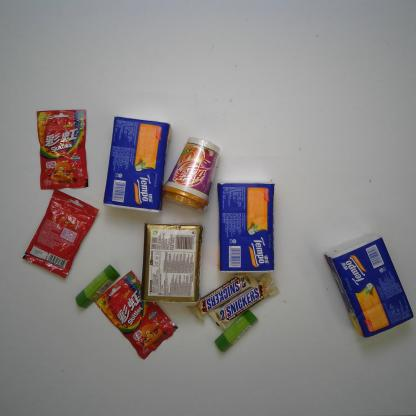Candy: (94, 269, 179, 360), (22, 188, 100, 279), (34, 110, 92, 192)
Chocolate: (206, 275, 279, 332), (190, 270, 260, 322)
Instant Drink: (162, 134, 221, 215)
Stationery: (75, 264, 121, 310), (214, 310, 260, 353)
Tissue: (323, 231, 415, 339), (102, 114, 172, 214), (140, 220, 207, 307), (216, 182, 276, 274)
